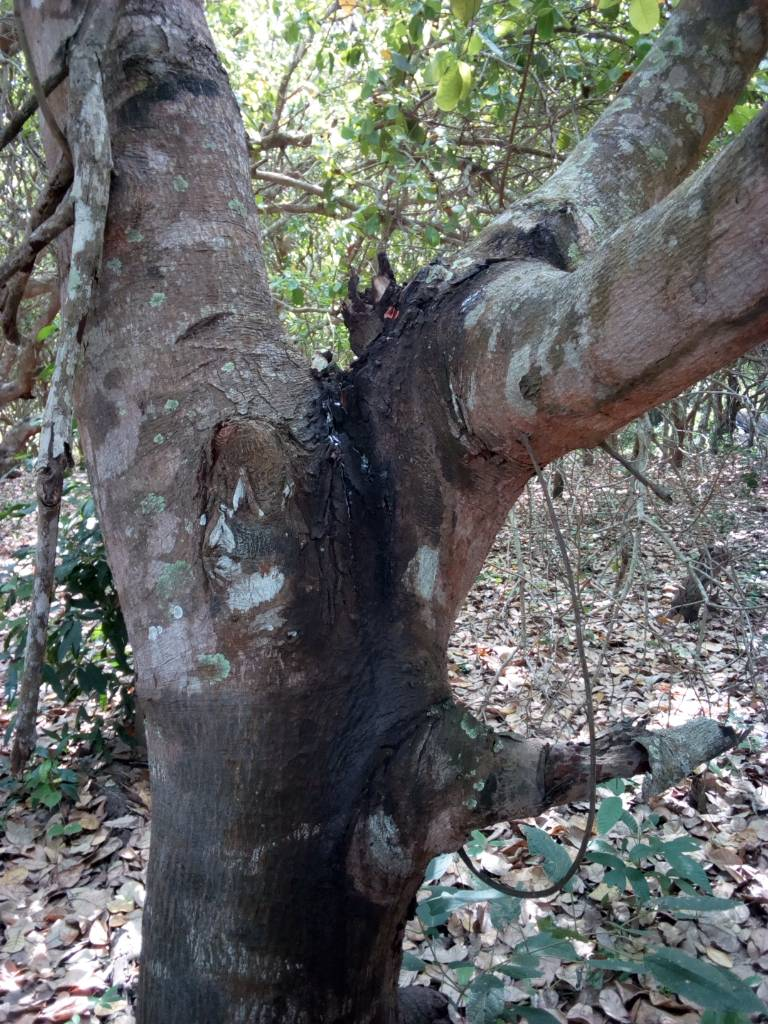Gommose: (293, 366, 407, 1010), (325, 224, 541, 358)
